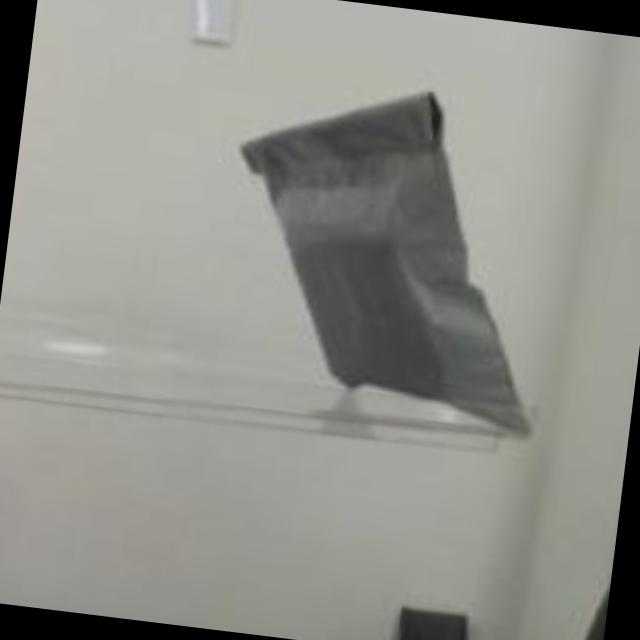mailer: (231, 88, 540, 450)
